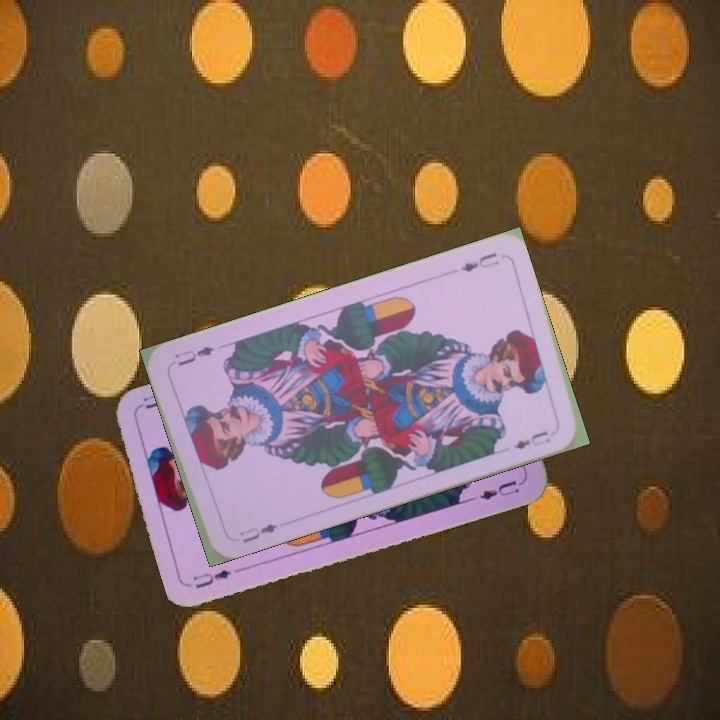EU: (456, 248, 502, 275), (235, 519, 280, 546), (189, 565, 234, 591)
